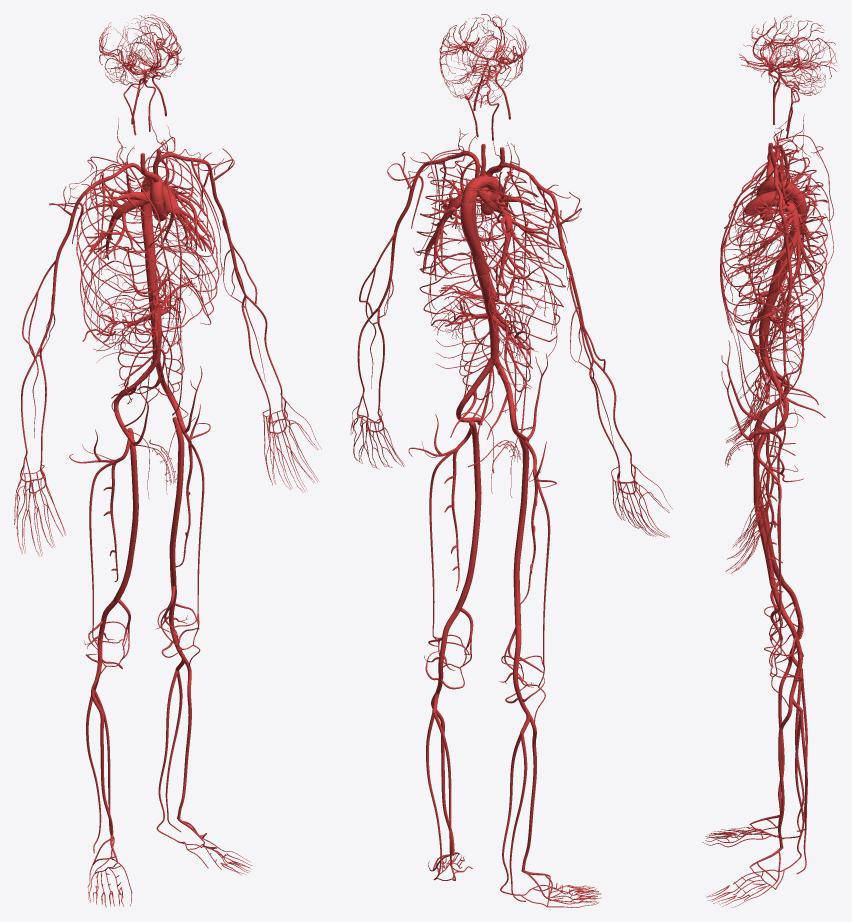
The model's file is arterias.glb.
3 renders of one model, left to right at view 1: azimuth 30°, elevation 25°; view 2: azimuth 150°, elevation 25°; view 3: azimuth 270°, elevation 25°, orthographic. The views are drawn at different scales.
Parts seen in each view (by area): view 1: FMA63822, FMA70801, FMA70250, FMA70249, FMA70815, FMA3784, FMA43897; view 2: FMA63822, FMA70801, FMA70250, FMA3784, FMA70249, FMA70815; view 3: FMA63822, FMA70801, FMA70250, FMA70815, FMA70249, FMA43897, FMA3789, FMA77381, FMA22692, FMA3784, FMA44660, FMA43896 (+10 smaller).
Part boxes in pixels (x1=…): FMA63822: x1=76, y1=156, x2=219, y2=347; FMA70801: x1=14, y1=422, x2=318, y2=853; FMA70250: x1=169, y1=417, x2=184, y2=587; FMA70249: x1=113, y1=428, x2=138, y2=602; FMA70815: x1=103, y1=432, x2=192, y2=581; FMA3784: x1=140, y1=184, x2=158, y2=365; FMA43897: x1=177, y1=657, x2=191, y2=818; FMA63822: x1=416, y1=179, x2=565, y2=351; FMA70801: x1=350, y1=420, x2=669, y2=901; FMA70250: x1=455, y1=421, x2=481, y2=611; FMA3784: x1=460, y1=201, x2=498, y2=360; FMA70249: x1=513, y1=434, x2=529, y2=625; FMA70815: x1=444, y1=428, x2=537, y2=606; FMA63822: x1=721, y1=157, x2=827, y2=353; FMA70801: x1=726, y1=381, x2=807, y2=874; FMA70250: x1=753, y1=434, x2=784, y2=611; FMA70815: x1=756, y1=426, x2=782, y2=592; FMA70249: x1=753, y1=407, x2=784, y2=584; FMA43897: x1=778, y1=696, x2=792, y2=847; FMA3789: x1=759, y1=272, x2=785, y2=360; FMA77381: x1=781, y1=609, x2=802, y2=712; FMA22692: x1=783, y1=231, x2=792, y2=372; FMA3784: x1=761, y1=199, x2=806, y2=359; FMA44660: x1=706, y1=827, x2=776, y2=907; FMA43896: x1=778, y1=657, x2=792, y2=814.
Bounding box in the file's own units: 0.6489 × 1.7 × 0.245.
